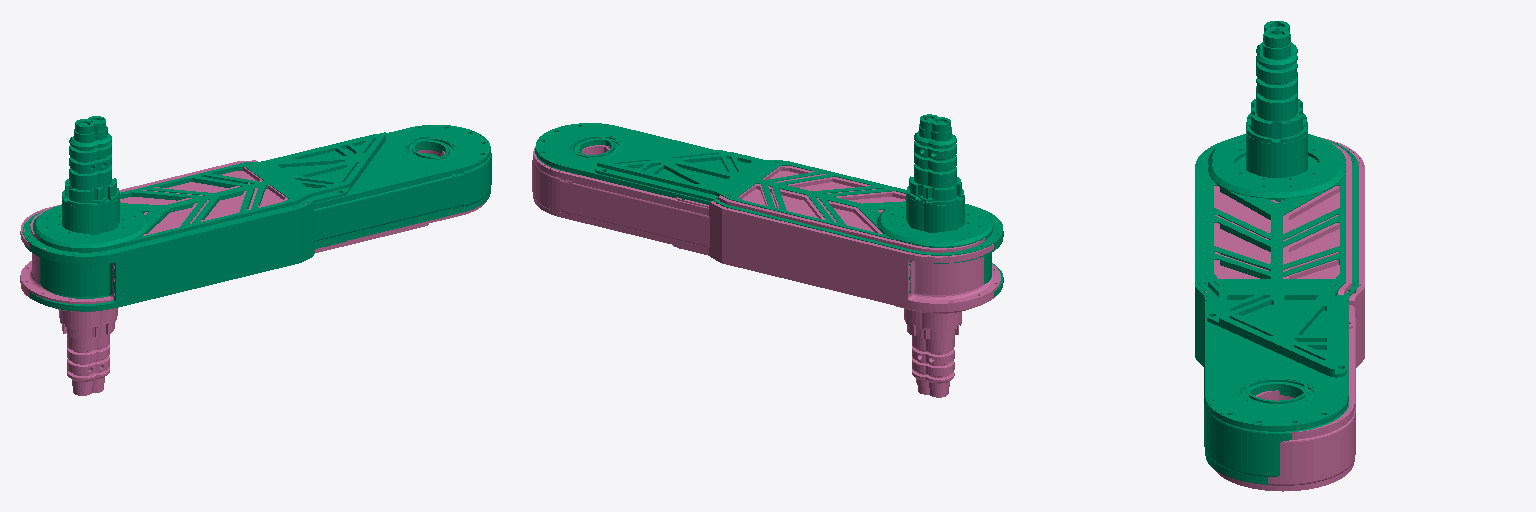
The robot description file, URDF, robot "QuadrupedTest2":
<?xml version="1.0" ?>

<robot name="QuadrupedTest2">
 
  <link name="world"/>

  
  <joint name="fixed_to_world" type="fixed">
    <origin xyz="0 0 0"/>
    <parent link="world"/>
    <child link="Frame"/>
  </joint>
  
  <link name="Frame">
    <inertial>
        <origin xyz="-0.25886 0.000 -0.01896" rpy="0 0 0"/>
        <mass value="307.332"/>
        <inertia ixx="11.32793572" ixy="0.015444025" ixz="-0.246367506" 
                 iyy="175.3832154" iyz="0.0007258" izz="180.3204645"/>
      </inertial>
      <visual>
        <origin xyz="0 0 0" rpy="0 0 0"/>
        <geometry>
          <mesh filename="package://quadruped_test_description/mesh/Frame.stl" scale="1 1 1"/>
        </geometry>
      </visual>
      <collision>
        <origin xyz="0 0 0" rpy="0 0 0"/>
        <geometry>
          <mesh filename="package://quadruped_test_description/mesh/Frame.stl" scale="1 1 1"/>
        </geometry>
      </collision>
  </link>

  <!-- Driving Parts -->

  <joint name="LM" type="prismatic">
    <origin xyz="0 0 -0.2135" rpy="0 0 0"/>
    <parent link="Frame"/>
    <child link="DrivingPart"/>
    <axis xyz="1 0 0"/>
    <limit effort="5000" lower="-0.3" upper="0.3" velocity="20"/>
  </joint>

  <link name="DrivingPart">
    <inertial>
      <origin xyz="-0.049 0 -0.10847" rpy="0 0 0"/>
      <mass value="38.72018"/>
      <inertia ixx="1.30793521" ixy="-0.004952681" ixz="0.198291931" 
               iyy="1.154265591" iyz="-0.005973557" izz="1.323768099"/>
    </inertial>
    <visual>
      <origin xyz="0 0 0" rpy="0 0 0"/>
      <geometry>
        <mesh filename="package://quadruped_test_description/mesh/DrivingPart.stl" scale="1 1 1"/>
      </geometry>
    </visual>
    <collision>
      <origin xyz="0 0 0" rpy="0 0 0"/>
      <geometry>
        <mesh filename="package://quadruped_test_description/mesh/DrivingPart.stl" scale="1 1 1"/>
      </geometry>
    </collision>
  </link>

  <joint name="LW" type="continuous">
    <origin xyz="0 0.2693 -0.1105" rpy="0 0 0"/>
    <parent link="DrivingPart"/>
    <child link="LeftWheel"/>
    <axis xyz="0 1 0"/>
  </joint>

  <link name="LeftWheel">
    <inertial>
      <origin xyz="0 0.02981 0" rpy="0 0 0"/>
      <mass value="12.05514"/>
      <inertia ixx="0.175462932" ixy="3.93246E-06" ixz="-8.1921E-07" 
               iyy="0.189170789" iyz="6.85486E-06" izz="0.175465175"/>
    </inertial>
    <visual>
      <origin xyz="0 0 0" rpy="0 0 0"/>
      <geometry>
        <mesh filename="package://quadruped_test_description/mesh/LeftWheel.stl" scale="1 1 1"/>
      </geometry>
    </visual>
    <collision>
      <origin xyz="0 0 0" rpy="0 0 0"/>
      <geometry>
        <mesh filename="package://quadruped_test_description/mesh/LeftWheel.stl" scale="1 1 1"/>
      </geometry>
    </collision>
  </link>

  <joint name="RW" type="continuous">
    <origin xyz="0 -0.2693 -0.1105" rpy="0 0 0"/>
    <parent link="DrivingPart"/>
    <child link="RightWheel"/>
    <axis xyz="0 1 0"/>
  </joint>

  <link name="RightWheel">
    <inertial>
      <origin xyz="0 -0.02981 0" rpy="0 0 0"/>
      <mass value="12.05514"/>
      <inertia ixx="0.175462932" ixy="-3.93246E-06" ixz="-8.1921E-07" 
               iyy="0.189170789" iyz="-6.85486E-06" izz="0.175465175"/>
    </inertial>
    <visual>
      <origin xyz="0 0 0" rpy="0 0 0"/>
      <geometry>
        <mesh filename="package://quadruped_test_description/mesh/RightWheel.stl" scale="1 1 1"/>
      </geometry>
    </visual>
    <collision>
      <origin xyz="0 0 0" rpy="0 0 0"/>
      <geometry>
        <mesh filename="package://quadruped_test_description/mesh/RightWheel.stl" scale="1 1 1"/>
      </geometry>
    </collision>
  </link>


  <!-- LF Leg -->

  <joint name="LF_HAA" type="revolute">
    <origin xyz="0.8205 0.275 0" rpy="0 0 0"/>
    <parent link="Frame"/>
    <child link="LF0"/>
    <axis xyz="1 0 0"/>
    <limit effort="5000" lower="-0.6977" upper="0.6977" velocity="20"/>
  </joint>

  <link name="LF0">
    <inertial>
      <origin xyz="-0.03886 -0.00647 0" rpy="0 0 0"/>
      <mass value="0.64235"/>
      <inertia ixx="0.000746743" ixy="0.000233562" ixz="-5.3E-10" 
               iyy="0.002308529" iyz="-2.6E-10" izz="0.002083373"/>
    </inertial>
    <visual>
      <origin xyz="0 0 0" rpy="0 0 0"/>
      <geometry>
        <mesh filename="package://quadruped_test_description/mesh/LF0.stl" scale="1 1 1"/>
      </geometry>
    </visual>
    <collision>
      <origin xyz="0 0 0" rpy="0 0 0"/>
      <geometry>
        <mesh filename="package://quadruped_test_description/mesh/LF0.stl" scale="1 1 1"/>
      </geometry>
    </collision>
  </link>

  <joint name="LF_HFE" type="revolute">
    <origin xyz="-0.1 0.019 0" rpy="0 0 0"/>
    <parent link="LF0"/>
    <child link="LF1"/>
    <axis xyz="0 1 0"/>
    <limit effort="5000" lower="-1.5707963267949" upper="1.5707963267949" velocity="20"/>
  </joint>

  <link name="LF1">
    <inertial>
      <origin xyz="-0.00034 0.04729 -0.1912" rpy="0 0 0"/>
      <mass value="10.74858"/>
      <inertia ixx="0.815792576" ixy="-0.000234613" ixz="0.00083217" 
               iyy="0.790319122" iyz="-0.125431858" izz="0.055289698"/>
    </inertial>
    <visual>
      <origin xyz="0 0 0" rpy="0 0 0"/>
      <geometry>
        <mesh filename="package://quadruped_test_description/mesh/LF1.stl" scale="1 1 1"/>
      </geometry>
    </visual>
    <collision>
      <origin xyz="0 0 0" rpy="0 0 0"/>
      <geometry>
        <mesh filename="package://quadruped_test_description/mesh/LF1.stl" scale="1 1 1"/>
      </geometry>
    </collision>
  </link>

  <joint name="LF_KFE" type="revolute">
    <origin xyz="0 -0.001 -0.5" rpy="0 0 0"/>
    <parent link="LF1"/>
    <child link="LF2"/>
    <axis xyz="0 1 0"/>
    <limit effort="5000" lower="-2.9" upper="0" velocity="20"/>
  </joint>

  <link name="LF2">
    <inertial>
      <origin xyz="-0.0065 0.00762 -0.11766" rpy="0 0 0"/>
      <mass value="4.09326"/>
      <inertia ixx="0.164632083" ixy="0.000781109" ixz="0.004963326" 
               iyy="0.157903322" iyz="0.0135809" izz="0.012318008"/>
    </inertial>
    <visual>
      <origin xyz="0 0 0" rpy="0 0 0"/>
      <geometry>
        <mesh filename="package://quadruped_test_description/mesh/LF2.stl" scale="1 1 1"/>
      </geometry>
    </visual>
    <collision>
      <origin xyz="0 0 0" rpy="0 0 0"/>
      <geometry>
        <mesh filename="package://quadruped_test_description/mesh/LF2.stl" scale="1 1 1"/>
      </geometry>
    </collision>
  </link>

  <joint name="LF_ankle" type="fixed">
    <origin xyz="0 -0.02606 -0.497065" rpy="0 0 0"/>
    <parent link="LF2"/>
    <child link="LF_foot"/>
  </joint>

  <link name="LF_foot">
    <inertial>
      <origin xyz="0 0 0" rpy="0 0 0"/>
      <mass value="0.297"/>
      <inertia ixx="0.0002" ixy="0" ixz="0" 
               iyy="0.0002" iyz="0" izz="0.0002"/>
    </inertial>
    <visual>
      <origin xyz="0 0 0" rpy="0 0 0"/>
      <geometry>
        <sphere radius="0.045"/>
      </geometry>
    </visual>
    <collision>
      <origin xyz="0 0 0" rpy="0 0 0"/>
      <geometry>
        <sphere radius="0.045"/>
      </geometry>
    </collision>
  </link>

  <!-- RF Leg -->

   <joint name="RF_HAA" type="revolute">
    <origin xyz="0.8205 -0.275 0" rpy="0 0 0"/>
    <parent link="Frame"/>
    <child link="RF0"/>
    <axis xyz="1 0 0"/>
    <limit effort="5000" lower="-0.6977" upper="0.6977" velocity="20"/>
  </joint>

  <link name="RF0">
    <inertial>
      <origin xyz="-0.03886 0.00647 0" rpy="0 0 0"/>
      <mass value="0.64235"/>
      <inertia ixx="0.000746743" ixy="-0.000233562" ixz="5.3E-10" 
               iyy="0.002308529" iyz="-2.6E-10" izz="0.002083373"/>
    </inertial>
    <visual>
      <origin xyz="0 0 0" rpy="0 0 0"/>
      <geometry>
        <mesh filename="package://quadruped_test_description/mesh/RF0.stl" scale="1 1 1"/>
      </geometry>
    </visual>
    <collision>
      <origin xyz="0 0 0" rpy="0 0 0"/>
      <geometry>
        <mesh filename="package://quadruped_test_description/mesh/RF0.stl" scale="1 1 1"/>
      </geometry>
    </collision>
  </link>

  <joint name="RF_HFE" type="revolute">
    <origin xyz="-0.1 -0.019 0" rpy="0 0 0"/>
    <parent link="RF0"/>
    <child link="RF1"/>
    <axis xyz="0 1 0"/>
    <limit effort="5000" lower="-1.5707963267949" upper="1.5707963267949" velocity="20"/>
  </joint>

  <link name="RF1">
    <inertial>
      <origin xyz="-0.00034 -0.04729 -0.1912" rpy="0 0 0"/>
      <mass value="10.74858"/>
      <inertia ixx="0.815792576" ixy="0.000234613" ixz="0.00083217" 
               iyy="0.790319122" iyz="0.125431858" izz="0.055289698"/>
    </inertial>
    <visual>
      <origin xyz="0 0 0" rpy="0 0 0"/>
      <geometry>
        <mesh filename="package://quadruped_test_description/mesh/RF1.stl" scale="1 1 1"/>
      </geometry>
    </visual>
    <collision>
      <origin xyz="0 0 0" rpy="0 0 0"/>
      <geometry>
        <mesh filename="package://quadruped_test_description/mesh/RF1.stl" scale="1 1 1"/>
      </geometry>
    </collision>
  </link>

  <joint name="RF_KFE" type="revolute">
    <origin xyz="0 0.001 -0.5" rpy="0 0 0"/>
    <parent link="RF1"/>
    <child link="RF2"/>
    <axis xyz="0 1 0"/>
    <limit effort="5000" lower="-2.9" upper="0" velocity="20"/>
  </joint>

  <link name="RF2">
    <inertial>
      <origin xyz="-0.0065 -0.00762 -0.11766" rpy="0 0 0"/>
      <mass value="4.09326"/>
      <inertia ixx="0.164632083" ixy="-0.000781109" ixz="0.004963326" 
               iyy="0.157903322" iyz="-0.0135809" izz="0.012318008"/>
    </inertial>
    <visual>
      <origin xyz="0 0 0" rpy="0 0 0"/>
      <geometry>
        <mesh filename="package://quadruped_test_description/mesh/RF2.stl" scale="1 1 1"/>
      </geometry>
    </visual>
    <collision>
      <origin xyz="0 0 0" rpy="0 0 0"/>
      <geometry>
        <mesh filename="package://quadruped_test_description/mesh/RF2.stl" scale="1 1 1"/>
      </geometry>
    </collision>
  </link>

  <joint name="RF_ankle" type="fixed">
    <origin xyz="0 0.02606 -0.497065" rpy="0 0 0"/>
    <parent link="RF2"/>
    <child link="RF_foot"/>
  </joint>

  <link name="RF_foot">
    <inertial>
      <origin xyz="0 0 0" rpy="0 0 0"/>
      <mass value="0.297"/>
      <inertia ixx="0.0002" ixy="0" ixz="0" 
               iyy="0.0002" iyz="0" izz="0.0002"/>
    </inertial>
    <visual>
      <origin xyz="0 0 0" rpy="0 0 0"/>
      <geometry>
        <sphere radius="0.045"/>
      </geometry>
    </visual>
    <collision>
      <origin xyz="0 0 0" rpy="0 0 0"/>
      <geometry>
        <sphere radius="0.045"/>
      </geometry>
    </collision>
  </link>

  <!-- LH Leg -->

  <joint name="LH_HAA" type="revolute">
    <origin xyz="-0.8595 0.275 0" rpy="0 0 0"/>
    <parent link="Frame"/>
    <child link="LH0"/>
    <axis xyz="1 0 0"/>
    <limit effort="5000" lower="-0.6977" upper="0.6977" velocity="20"/>
  </joint>

  <link name="LH0">
    <inertial>
      <origin xyz="-0.03886 -0.00647 0" rpy="0 0 0"/>
      <mass value="0.64235"/>
      <inertia ixx="0.000746743" ixy="0.000233562" ixz="-5.3E-10" 
              iyy="0.002308529" iyz="-2.6E-10" izz="0.002083373"/>
    </inertial>
    <visual>
      <origin xyz="0 0 0" rpy="0 0 0"/>
      <geometry>
        <mesh filename="package://quadruped_test_description/mesh/LF0.stl" scale="1 1 1"/>
      </geometry>
    </visual>
    <collision>
      <origin xyz="0 0 0" rpy="0 0 0"/>
      <geometry>
        <mesh filename="package://quadruped_test_description/mesh/LF0.stl" scale="1 1 1"/>
      </geometry>
    </collision>
  </link>

  <joint name="LH_HFE" type="revolute">
    <origin xyz="-0.1 0.019 0" rpy="0 0 0"/>
    <parent link="LH0"/>
    <child link="LH1"/>
    <axis xyz="0 1 0"/>
    <limit effort="5000" lower="-1.5707963267949" upper="1.5707963267949" velocity="20"/>
  </joint>

  <link name="LH1">
    <inertial>
      <origin xyz="-0.00034 0.04729 -0.1912" rpy="0 0 0"/>
      <mass value="10.74858"/>
      <inertia ixx="0.815792576" ixy="-0.000234613" ixz="0.00083217" 
              iyy="0.790319122" iyz="-0.125431858" izz="0.055289698"/>
    </inertial>
    <visual>
      <origin xyz="0 0 0" rpy="0 0 0"/>
      <geometry>
        <mesh filename="package://quadruped_test_description/mesh/LF1.stl" scale="1 1 1"/>
      </geometry>
    </visual>
    <collision>
      <origin xyz="0 0 0" rpy="0 0 0"/>
      <geometry>
        <mesh filename="package://quadruped_test_description/mesh/LF1.stl" scale="1 1 1"/>
      </geometry>
    </collision>
  </link>

  <joint name="LH_KFE" type="revolute">
    <origin xyz="0 -0.001 -0.5" rpy="0 0 0"/>
    <parent link="LH1"/>
    <child link="LH2"/>
    <axis xyz="0 1 0"/>
    <limit effort="5000" lower="-2.9" upper="0" velocity="20"/>
  </joint>

  <link name="LH2">
    <inertial>
      <origin xyz="-0.0065 0.00762 -0.11766" rpy="0 0 0"/>
      <mass value="4.09326"/>
      <inertia ixx="0.164632083" ixy="0.000781109" ixz="0.004963326" 
              iyy="0.157903322" iyz="0.0135809" izz="0.012318008"/>
    </inertial>
    <visual>
      <origin xyz="0 0 0" rpy="0 0 0"/>
      <geometry>
        <mesh filename="package://quadruped_test_description/mesh/LF2.stl" scale="1 1 1"/>
      </geometry>
    </visual>
    <collision>
      <origin xyz="0 0 0" rpy="0 0 0"/>
      <geometry>
        <mesh filename="package://quadruped_test_description/mesh/LF2.stl" scale="1 1 1"/>
      </geometry>
    </collision>
  </link>

  <joint name="LH_ankle" type="fixed">
    <origin xyz="0 -0.02606 -0.497065" rpy="0 0 0"/>
    <parent link="LH2"/>
    <child link="LH_foot"/>
  </joint>

  <link name="LH_foot">
    <inertial>
      <origin xyz="0 0 0" rpy="0 0 0"/>
      <mass value="0.297"/>
      <inertia ixx="0.0002" ixy="0" ixz="0" 
              iyy="0.0002" iyz="0" izz="0.0002"/>
    </inertial>
    <visual>
      <origin xyz="0 0 0" rpy="0 0 0"/>
      <geometry>
        <sphere radius="0.045"/>
      </geometry>
    </visual>
    <collision>
      <origin xyz="0 0 0" rpy="0 0 0"/>
      <geometry>
        <sphere radius="0.045"/>
      </geometry>
    </collision>
  </link>

  <!-- RH Leg -->

  <joint name="RH_HAA" type="revolute">
    <origin xyz="-0.8595 -0.275 0" rpy="0 0 0"/>
    <parent link="Frame"/>
    <child link="RH0"/>
    <axis xyz="1 0 0"/>
    <limit effort="5000" lower="-0.6977" upper="0.6977" velocity="20"/>
  </joint>

  <link name="RH0">
    <inertial>
      <origin xyz="-0.03886 0.00647 0" rpy="0 0 0"/>
      <mass value="0.64235"/>
      <inertia ixx="0.000746743" ixy="-0.000233562" ixz="5.3E-10" 
              iyy="0.002308529" iyz="-2.6E-10" izz="0.002083373"/>
    </inertial>
    <visual>
      <origin xyz="0 0 0" rpy="0 0 0"/>
      <geometry>
        <mesh filename="package://quadruped_test_description/mesh/RF0.stl" scale="1 1 1"/>
      </geometry>
    </visual>
    <collision>
      <origin xyz="0 0 0" rpy="0 0 0"/>
      <geometry>
        <mesh filename="package://quadruped_test_description/mesh/RF0.stl" scale="1 1 1"/>
      </geometry>
    </collision>
  </link>

  <joint name="RH_HFE" type="revolute">
    <origin xyz="-0.1 -0.019 0" rpy="0 0 0"/>
    <parent link="RH0"/>
    <child link="RH1"/>
    <axis xyz="0 1 0"/>
    <limit effort="5000" lower="-1.5707963267949" upper="1.5707963267949" velocity="20"/>
  </joint>

  <link name="RH1">
    <inertial>
      <origin xyz="-0.00034 -0.04729 -0.1912" rpy="0 0 0"/>
      <mass value="10.74858"/>
      <inertia ixx="0.815792576" ixy="0.000234613" ixz="0.00083217" 
              iyy="0.790319122" iyz="0.125431858" izz="0.055289698"/>
    </inertial>
    <visual>
      <origin xyz="0 0 0" rpy="0 0 0"/>
      <geometry>
        <mesh filename="package://quadruped_test_description/mesh/RF1.stl" scale="1 1 1"/>
      </geometry>
    </visual>
    <collision>
      <origin xyz="0 0 0" rpy="0 0 0"/>
      <geometry>
        <mesh filename="package://quadruped_test_description/mesh/RF1.stl" scale="1 1 1"/>
      </geometry>
    </collision>
  </link>

  <joint name="RH_KFE" type="revolute">
    <origin xyz="0 0.001 -0.5" rpy="0 0 0"/>
    <parent link="RH1"/>
    <child link="RH2"/>
    <axis xyz="0 1 0"/>
    <limit effort="5000" lower="-2.9" upper="0" velocity="20"/>
  </joint>

  <link name="RH2">
    <inertial>
      <origin xyz="-0.0065 -0.00762 -0.11766" rpy="0 0 0"/>
      <mass value="4.09326"/>
      <inertia ixx="0.164632083" ixy="-0.000781109" ixz="0.004963326" 
              iyy="0.157903322" iyz="-0.0135809" izz="0.012318008"/>
    </inertial>
    <visual>
      <origin xyz="0 0 0" rpy="0 0 0"/>
      <geometry>
        <mesh filename="package://quadruped_test_description/mesh/RF2.stl" scale="1 1 1"/>
      </geometry>
    </visual>
    <collision>
      <origin xyz="0 0 0" rpy="0 0 0"/>
      <geometry>
        <mesh filename="package://quadruped_test_description/mesh/RF2.stl" scale="1 1 1"/>
      </geometry>
    </collision>
  </link>

  <joint name="RH_ankle" type="fixed">
    <origin xyz="0 0.02606 -0.497065" rpy="0 0 0"/>
    <parent link="RH2"/>
    <child link="RH_foot"/>
  </joint>

  <link name="RH_foot">
    <inertial>
      <origin xyz="0 0 0" rpy="0 0 0"/>
      <mass value="0.297"/>
      <inertia ixx="0.0002" ixy="0" ixz="0" 
              iyy="0.0002" iyz="0" izz="0.0002"/>
    </inertial>
    <visual>
      <origin xyz="0 0 0" rpy="0 0 0"/>
      <geometry>
        <sphere radius="0.045"/>
      </geometry>
    </visual>
    <collision>
      <origin xyz="0 0 0" rpy="0 0 0"/>
      <geometry>
        <sphere radius="0.045"/>
      </geometry>
    </collision>
  </link>


</robot>

--- What the picture shows (computed from the rendered views, not written in the file) ---
Views: 3 orthographic renders of the robot side by side, from view 1: azimuth 30°, elevation 25°; view 2: azimuth 150°, elevation 25°; view 3: azimuth 270°, elevation 25°.
Robot: QuadrupedTest2 — 21 links, 20 joints (12 revolute, 2 continuous, 1 prismatic, 5 fixed); root link world; default pose: every joint at zero.
Links seen in each view (by area): view 1: RH1, RF1, LH1, LF1; view 2: LH1, LF1, RH1, RF1; view 3: RF1, RH1, LF1, LH1.
Link boxes in pixels (<box>): RH1: <box>23,119,478,311</box>; RF1: <box>47,116,491,304</box>; LH1: <box>20,150,449,395</box>; LF1: <box>54,160,486,392</box>; LH1: <box>565,145,1000,397</box>; LF1: <box>532,145,938,394</box>; RH1: <box>547,117,1003,296</box>; RF1: <box>535,114,978,251</box>; RF1: <box>1195,28,1358,484</box>; RH1: <box>1195,21,1358,418</box>; LF1: <box>1204,159,1364,491</box>; LH1: <box>1214,137,1364,407</box>.
Bounding box of the posed robot: 66.67 × 16.49 × 38.06 m (x, y, z).
4 mesh visuals loaded from 10 distinct referenced files (2 binary STL); not drawn: 12 (reference not matched to a file when rendering).